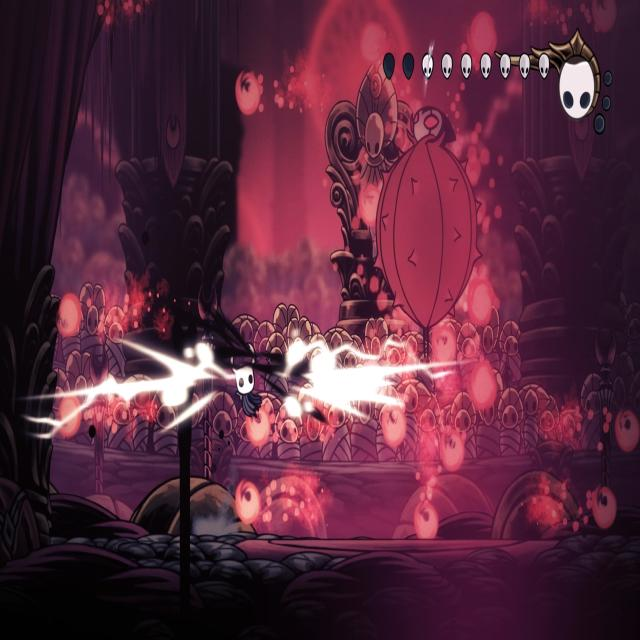Player: (228, 337, 263, 423)
Pufferfish: (370, 101, 484, 359)
Tiny Fireballs: (468, 11, 496, 69), (469, 360, 496, 411), (468, 278, 494, 327), (380, 404, 406, 449), (235, 71, 261, 116), (56, 293, 82, 338), (235, 480, 261, 524), (440, 427, 465, 471), (591, 487, 616, 529), (615, 409, 640, 451), (245, 407, 271, 447), (431, 322, 456, 362), (414, 500, 439, 538), (59, 396, 81, 438), (591, 0, 616, 33)
